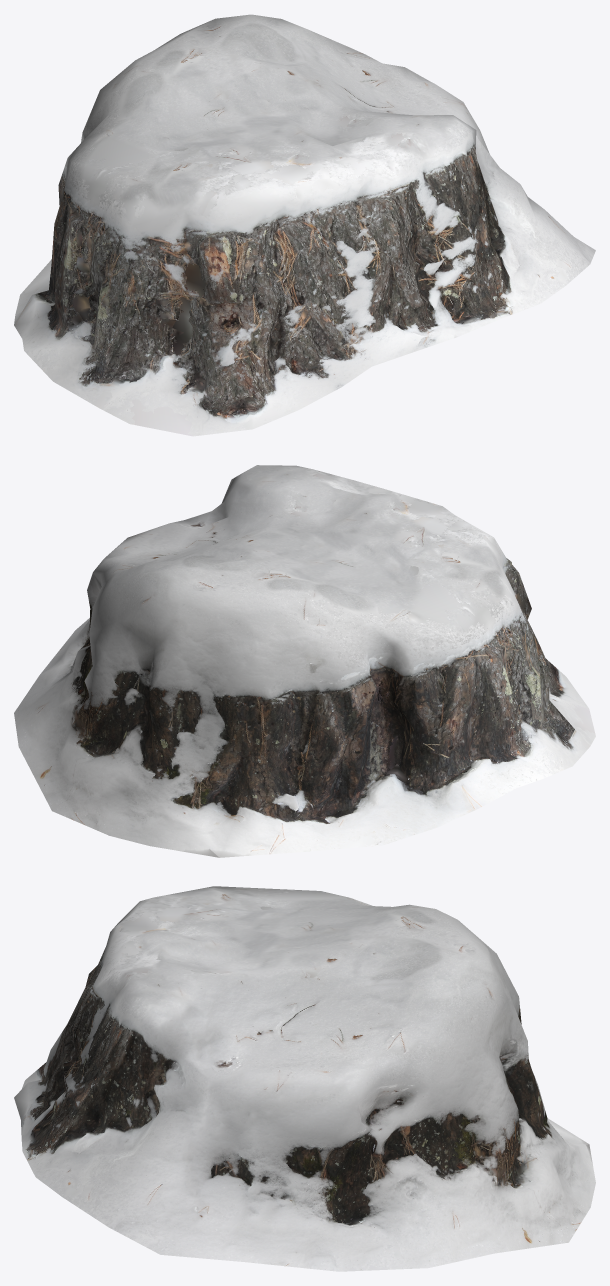
The model's file is Forest_stump_5.FBX.
3 views of the same model, one above another, from view 1: azimuth 30°, elevation 25°; view 2: azimuth 150°, elevation 25°; view 3: azimuth 270°, elevation 25° (orthographic). The views are drawn at different scales.
Visible parts, largest first — view 1: Forest_stump_5; view 2: Forest_stump_5; view 3: Forest_stump_5.
Boxes of the visible parts, x1,y1,x2,y2 form: Forest_stump_5: [14, 14, 595, 436]; Forest_stump_5: [14, 465, 595, 857]; Forest_stump_5: [14, 886, 595, 1271].
Bounding box in the file's own units: 1.32 × 0.5756 × 1.24.
Materials: 1 (1 with a texture image).
